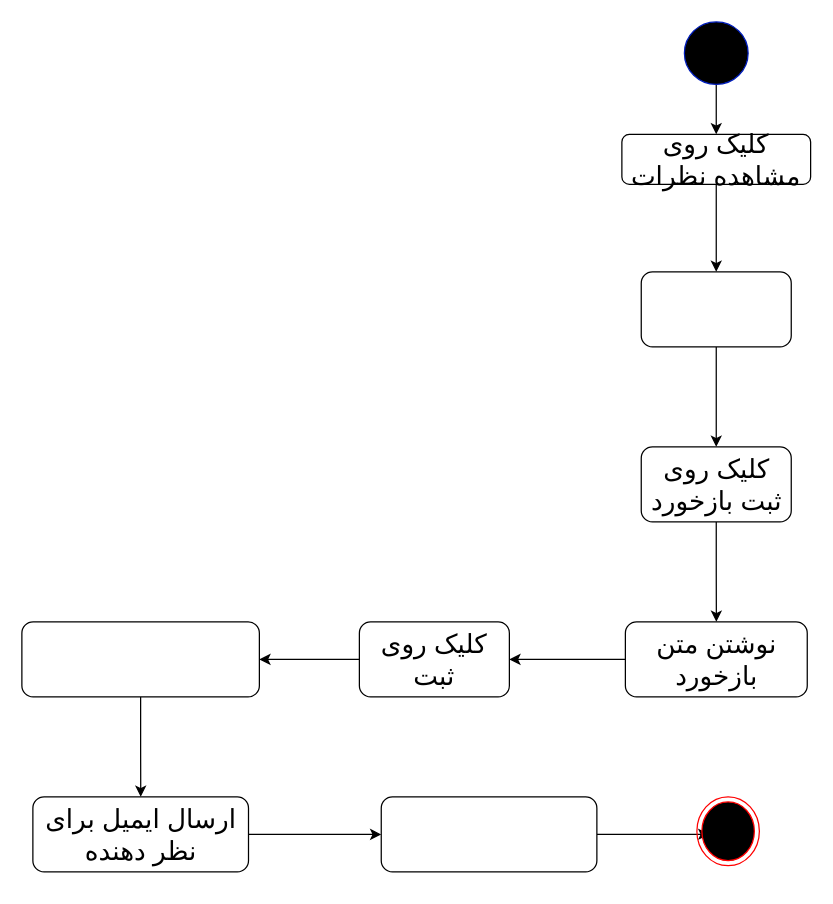
Some shapes in this 833 by 904 pixel diagram are drawn without their labels. The shapes that lost their labels are listed below. From the top down, each one's centre as x and y in pixels, then its label:
point 715,309: انتخاب نظر
point 140,659: حذف نظر از دسته نظرات بررسی شنده
point 488,834: نمایش پاسخ در صفحه ای که کامنت گذاشته شده
